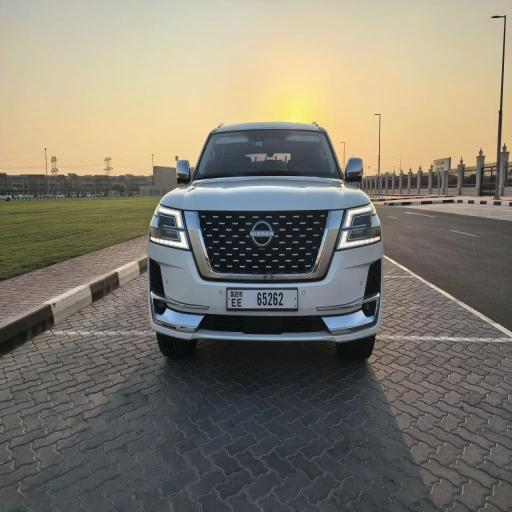license-plates: (227, 289, 297, 308)
